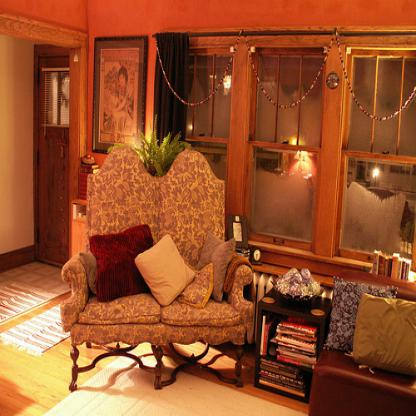pottedplant: (107, 114, 192, 176)
sofa: (61, 148, 252, 392)
